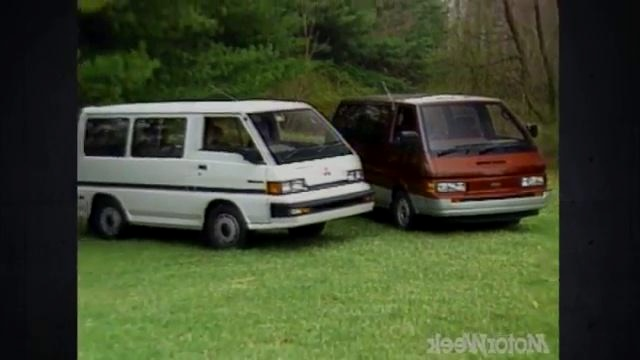van: (74, 100, 369, 243), (323, 95, 549, 225)
